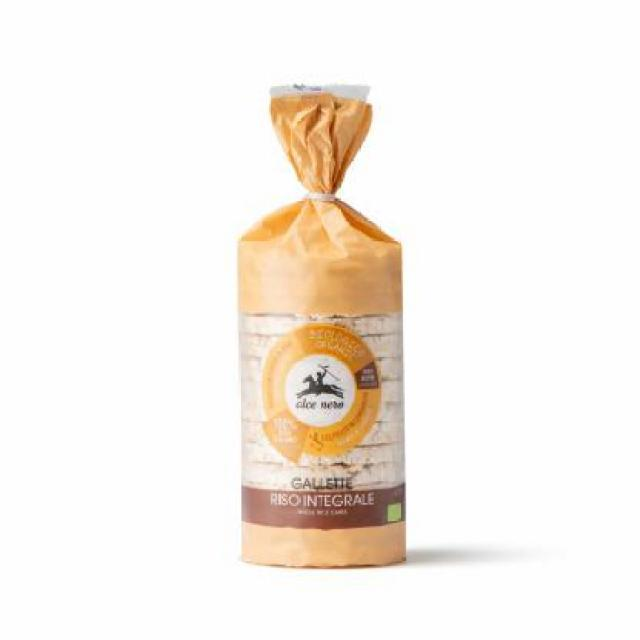Gallette di riso: (230, 79, 410, 572)
